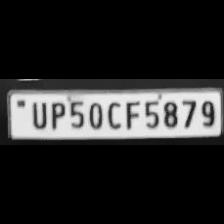0: (85, 98, 103, 130)
5: (65, 98, 84, 130), (142, 97, 160, 128)
7: (178, 96, 198, 130)
8: (160, 97, 178, 128)
9: (196, 97, 216, 128)
C: (104, 98, 122, 130)
F: (122, 98, 140, 130)
P: (46, 100, 66, 130)
U: (26, 98, 48, 130)
